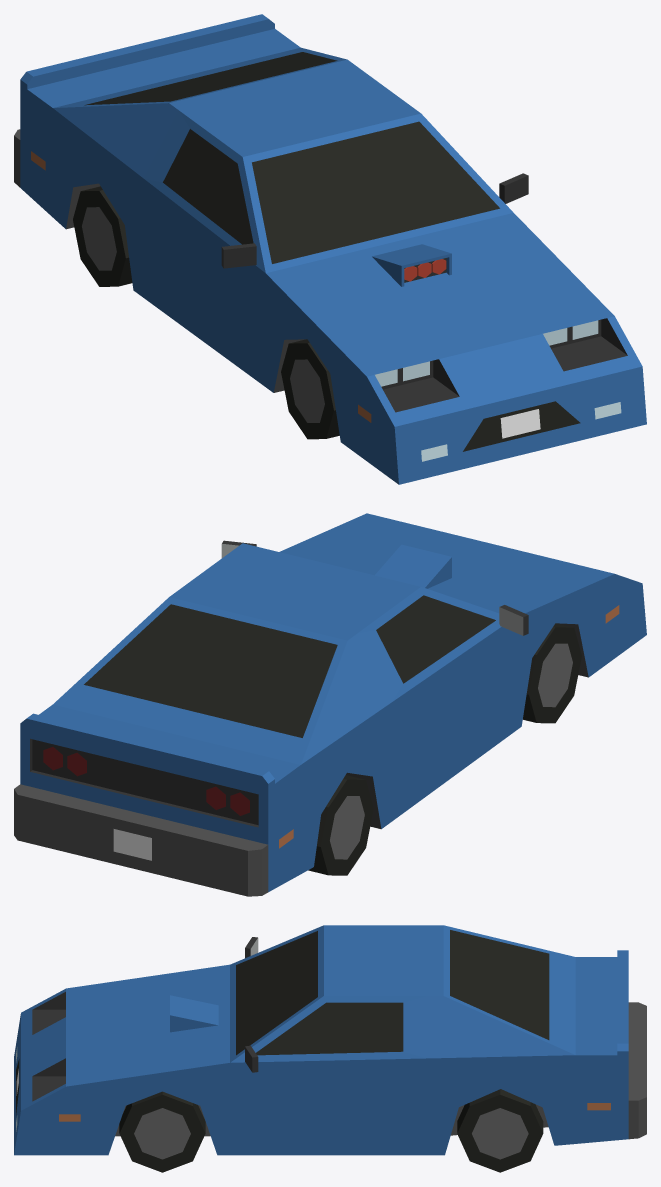
File: Veh_Muscle_Car_03_Blue.obj
The picture shows the model from 3 angles, top to bottom: view 1: azimuth 30°, elevation 25°; view 2: azimuth 150°, elevation 25°; view 3: azimuth 270°, elevation 25°; orthographic projection. The views are drawn at different scales.
Size of the model in its own units: 1.24 by 0.7814 by 2.75.
